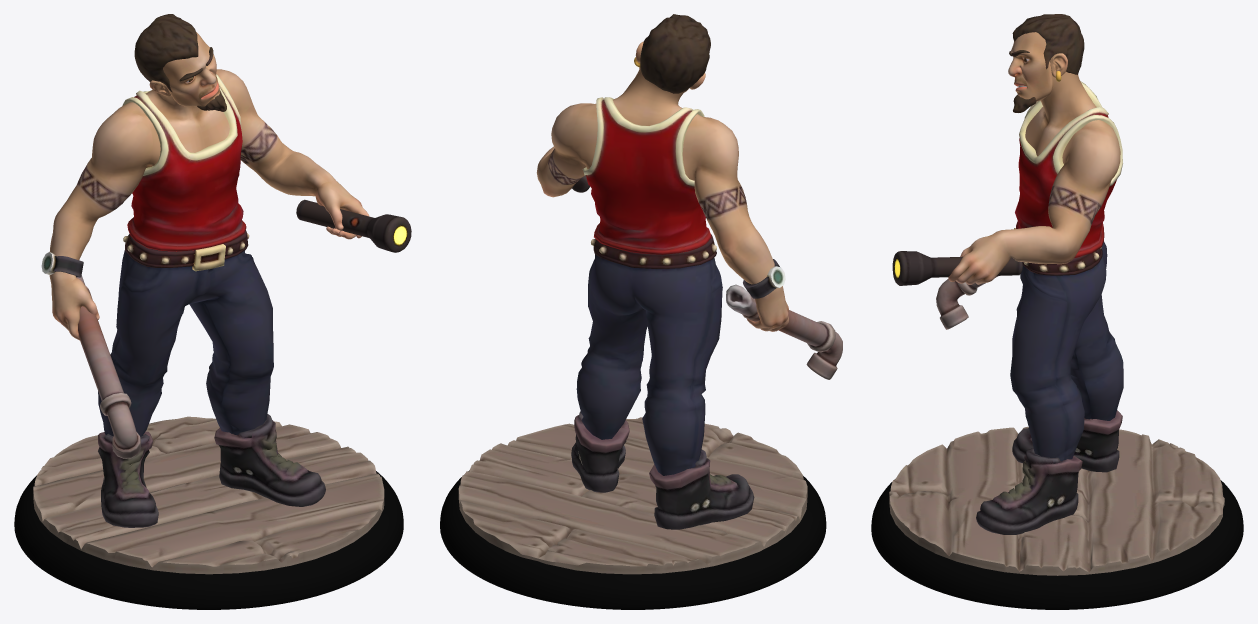
The model's file is josef-hooper.glb.
The picture shows the model from 3 angles, left to right: view 1: azimuth 30°, elevation 25°; view 2: azimuth 150°, elevation 25°; view 3: azimuth 270°, elevation 25°; orthographic projection. The views are drawn at different scales.
Size of the model in its own units: 0.6788 by 1 by 0.6788.
Materials: 1 (1 with a texture image).
